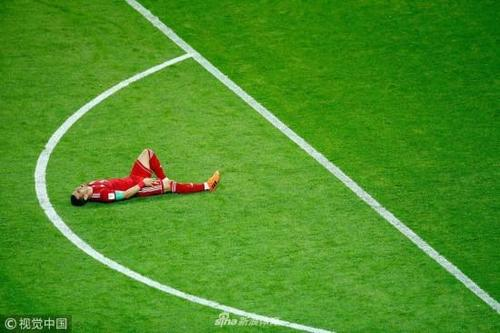fall: (67, 145, 228, 212)
